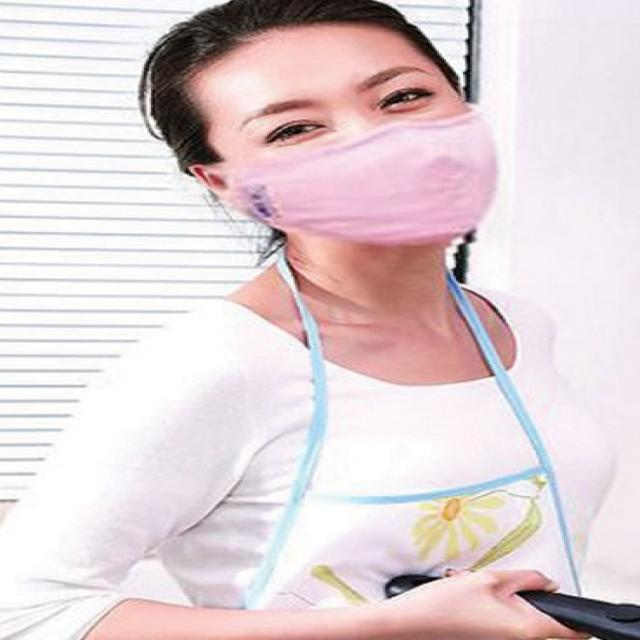mask: (220, 12, 496, 250)
